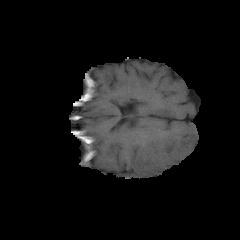glioma: (132, 130, 195, 173)
